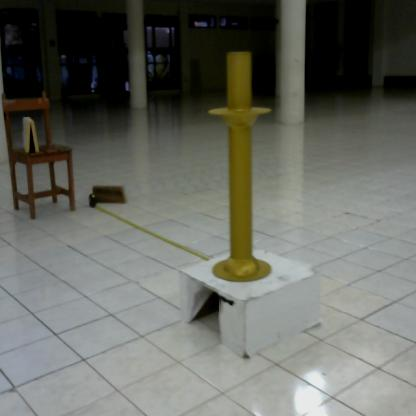pole: (208, 46, 278, 291)
